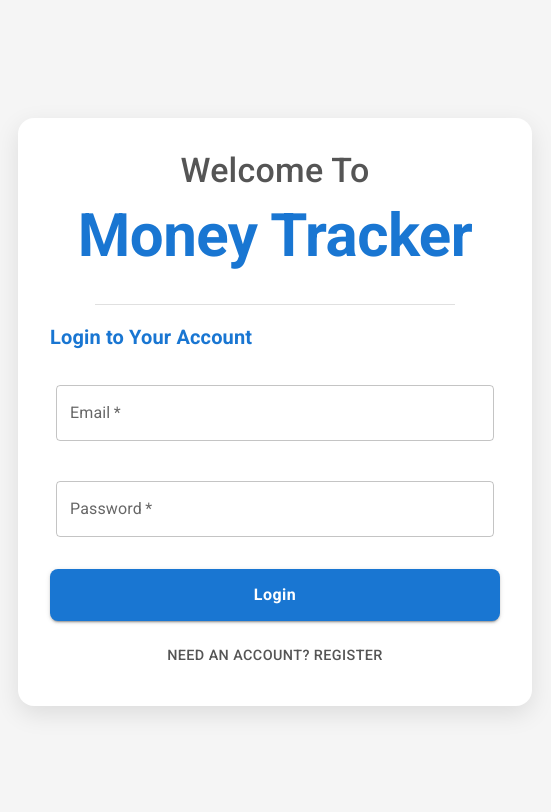
Test: Login Page › renders registration form and requirements
Click the button "Need an account? Register" at (275, 656), box [159, 637, 391, 674]
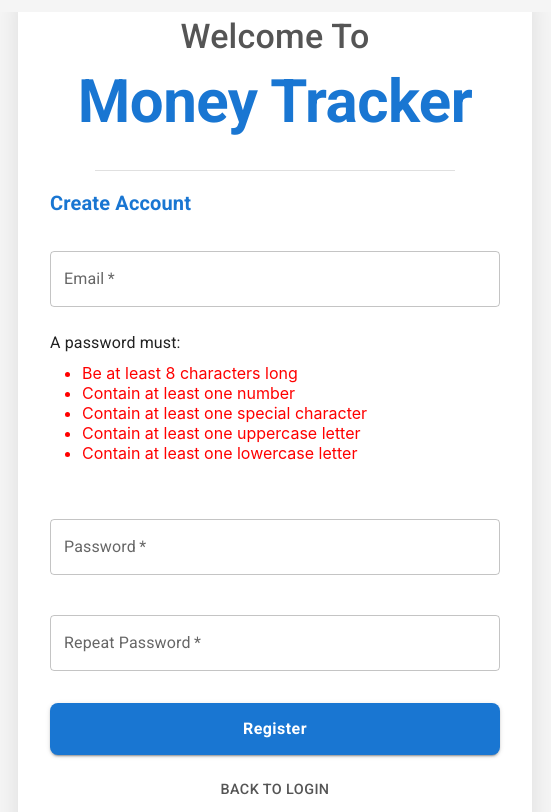
Expected: the heading "Create Account" is shown, [50, 187, 191, 219]
Expected: the text "A password must:" is shown, [50, 333, 181, 352]
Expected: the list item "Be at least 8 characters long" is shown, [82, 363, 298, 383]
